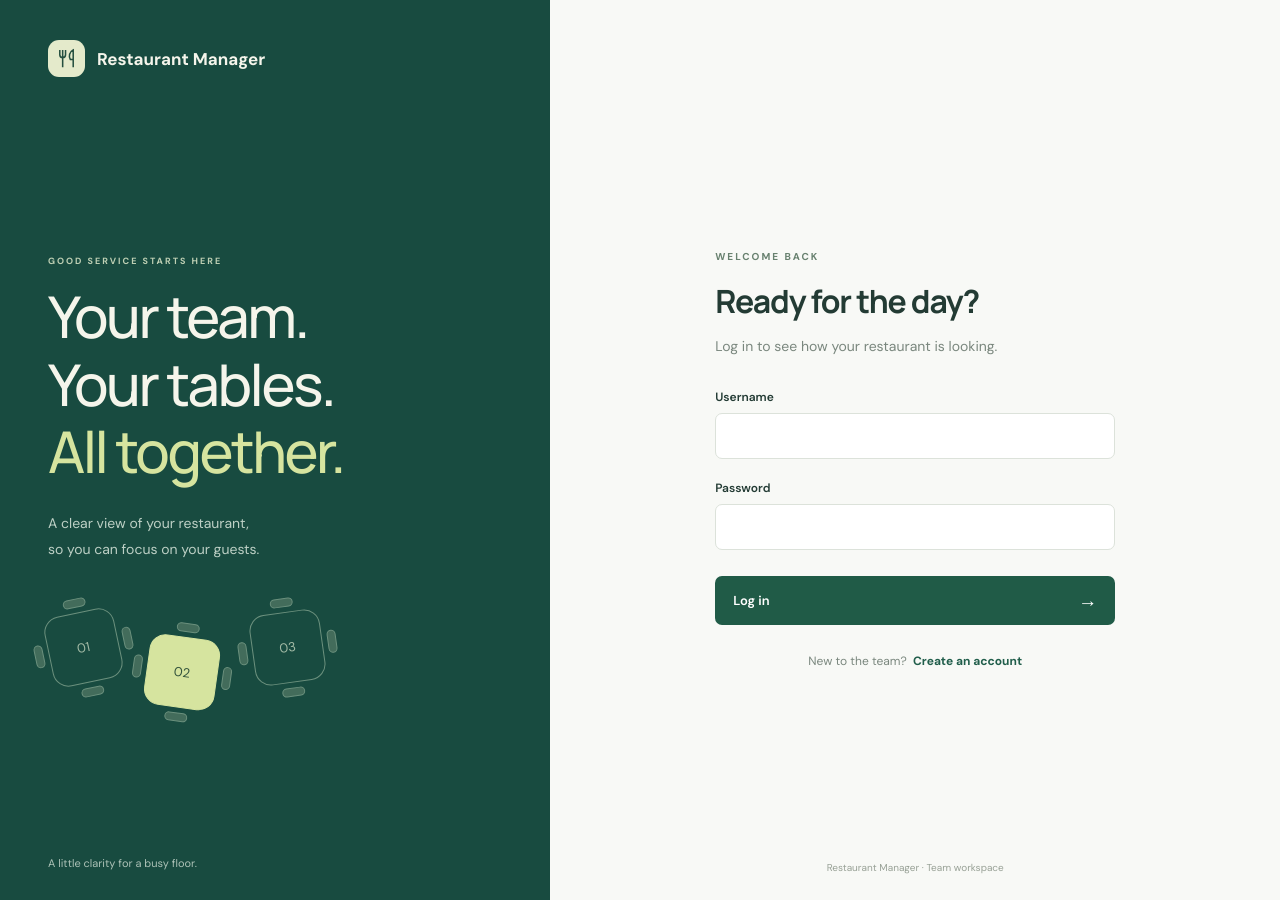
Test: sprint pages › handles an empty dashboard
In the field labelled "Username": (915, 436) [715,413,1115,459], type "alex"
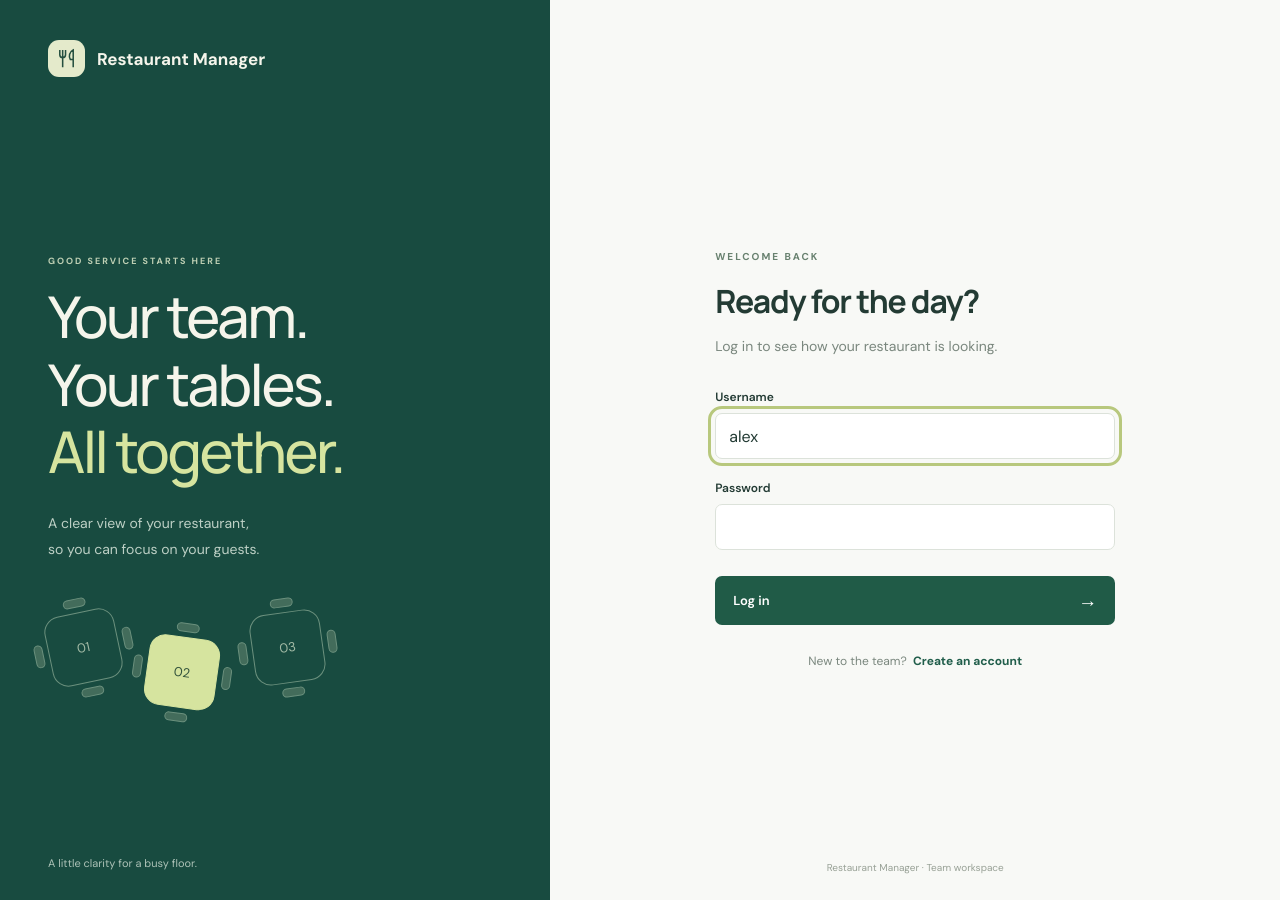
In the password field labelled "Password": (915, 527) [715,504,1115,550], type "simple"
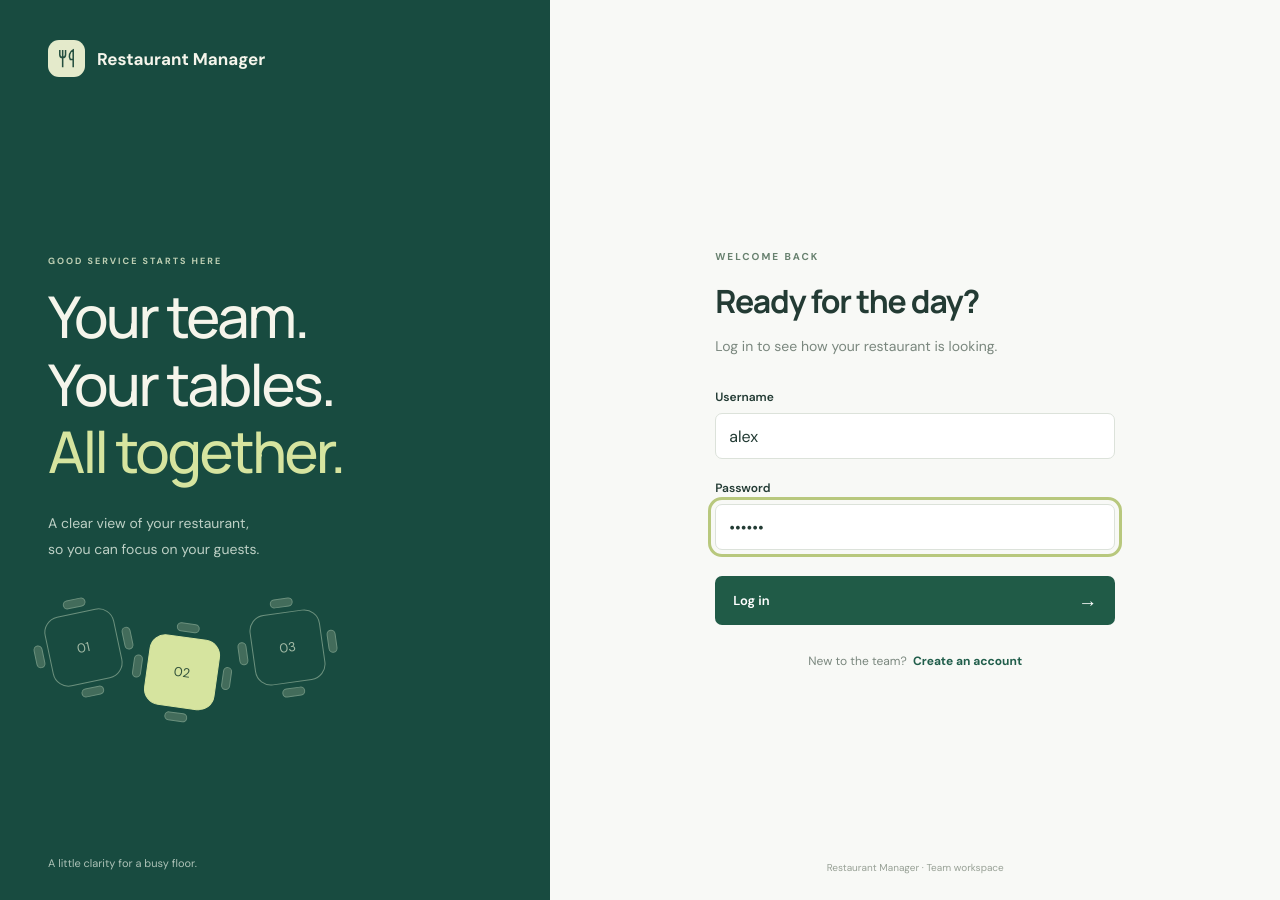
Click the button "Log in →": (751, 600) [715,576,1115,625]
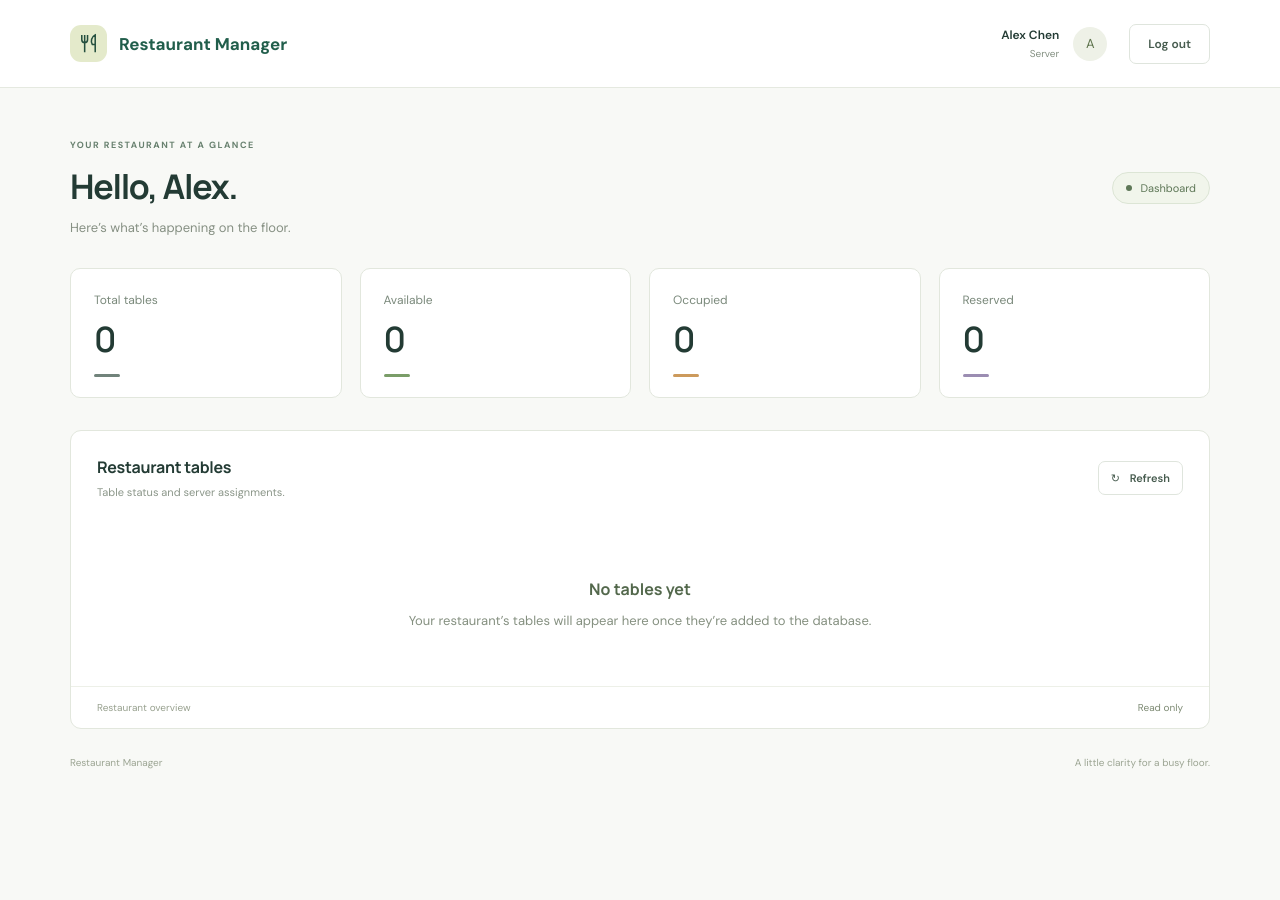
Expected: the heading "No tables yet" is shown, [589,578,691,600]
